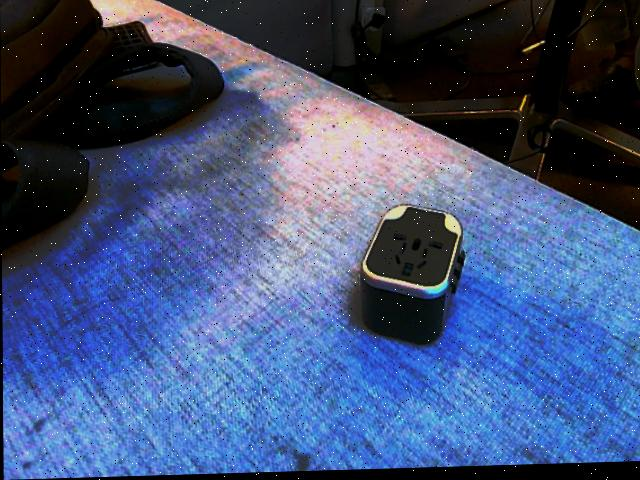adapter: (358, 205, 466, 348)
